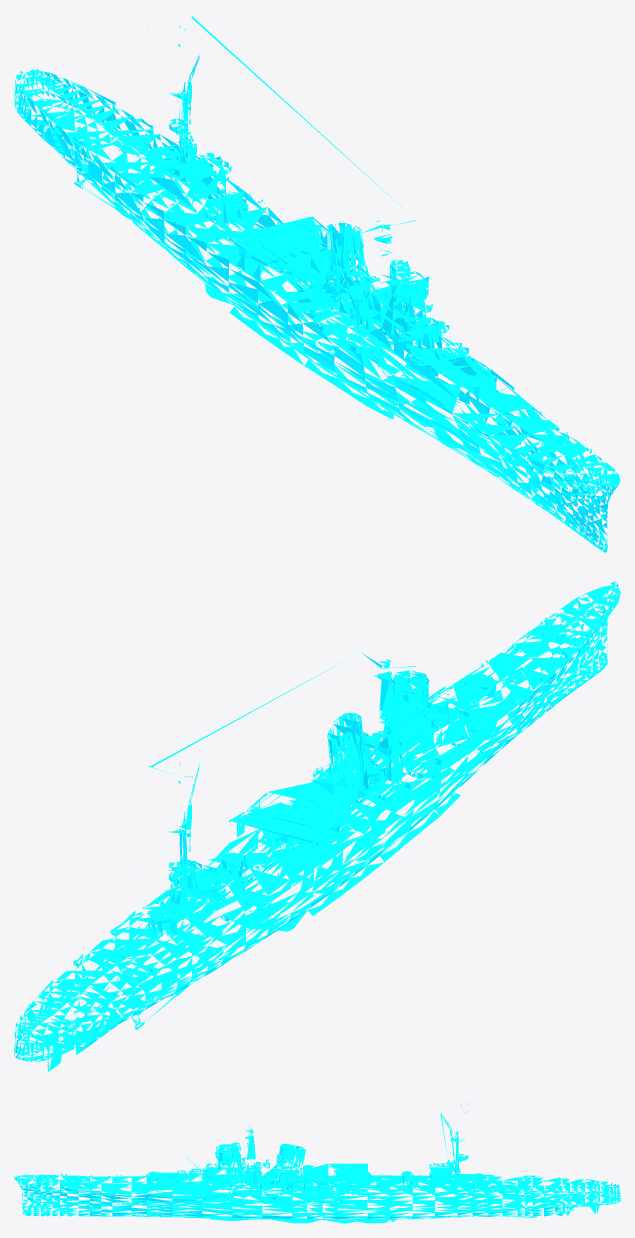
The model's file is Gokase.glb.
The picture shows the model from 3 angles, top to bottom: view 1: azimuth 30°, elevation 25°; view 2: azimuth 150°, elevation 25°; view 3: azimuth 270°, elevation 25°; orthographic projection. The views are drawn at different scales.
Size of the model in its own units: 1.12 by 2.48 by 12.24.
